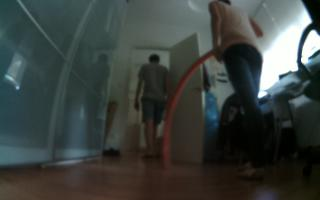person: (205, 1, 275, 182), (131, 48, 176, 161)
